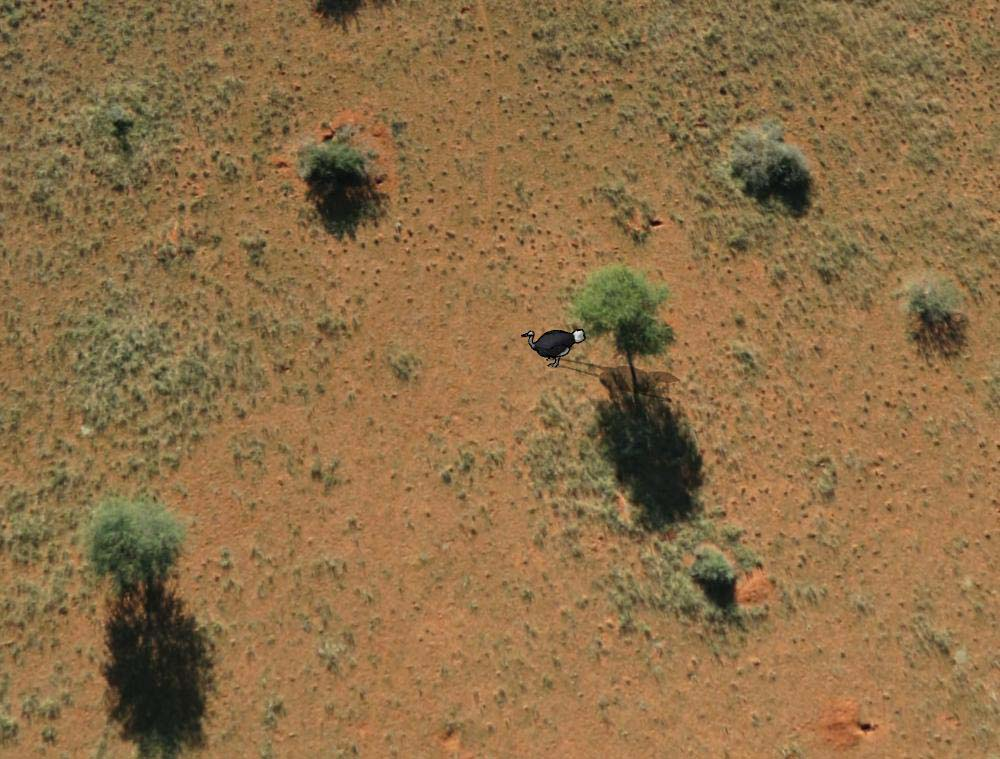springbok: (520, 322, 583, 372)
